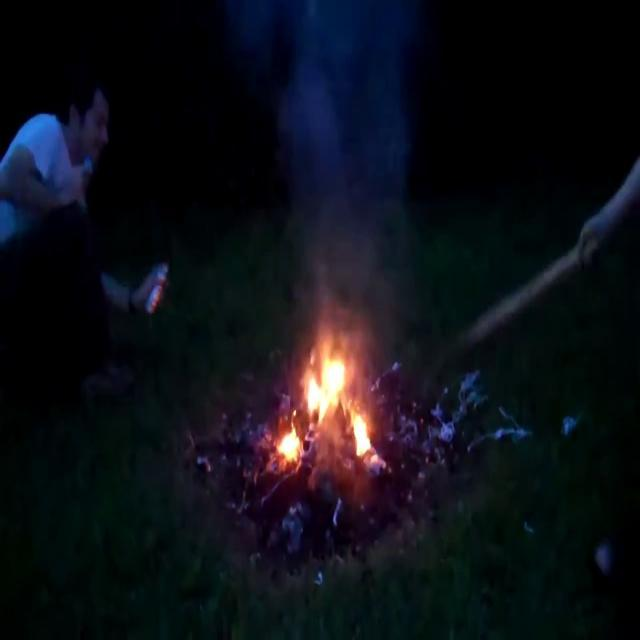Fire: (274, 331, 378, 467)
Smoke: (271, 2, 432, 340)
